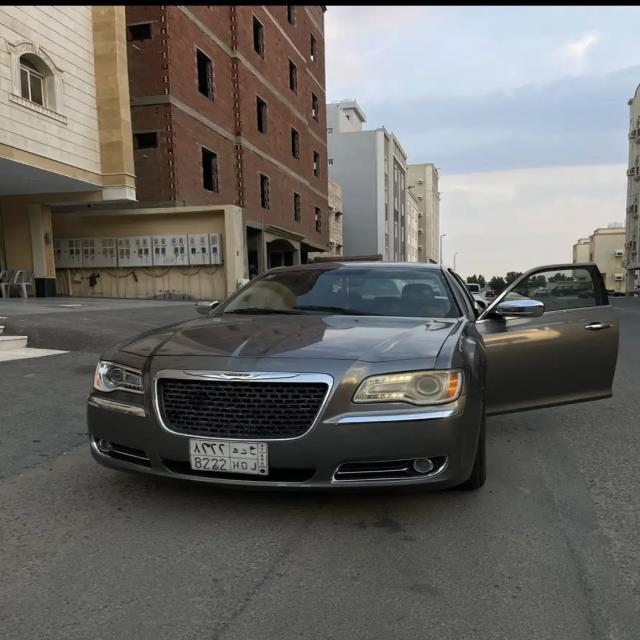license_plate: (188, 437, 268, 475)
